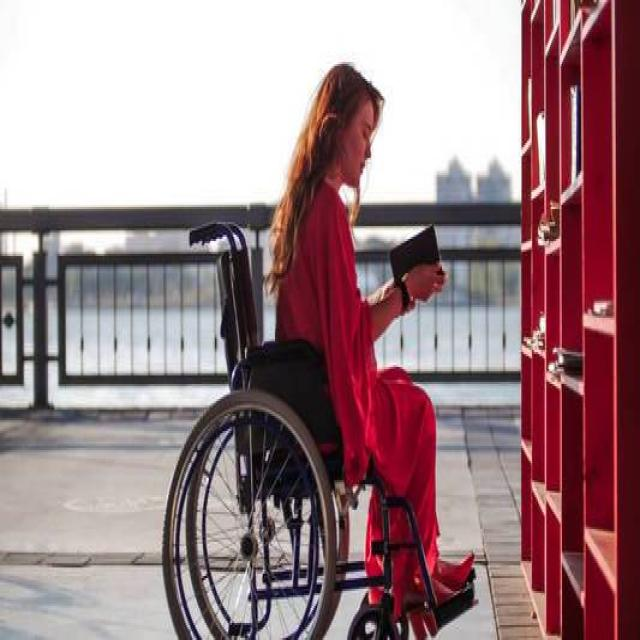wheelchairs: (155, 203, 489, 640)
